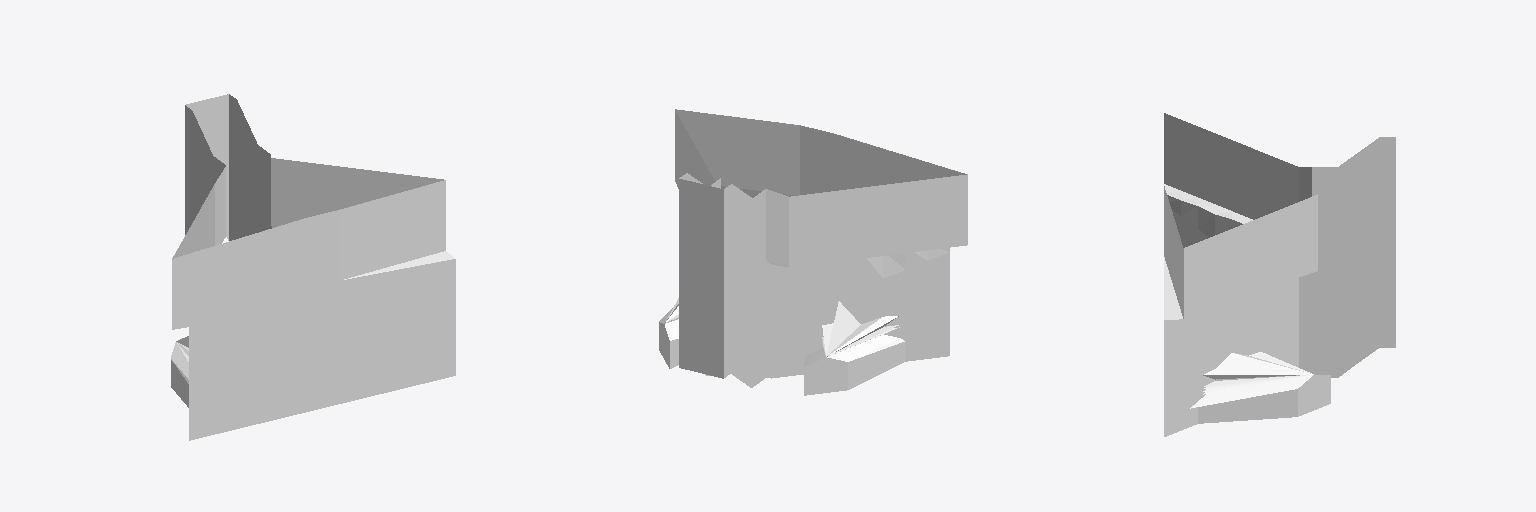
The model's file is Room.obj.
3 views of the same model, side by side, from view 1: azimuth 30°, elevation 25°; view 2: azimuth 150°, elevation 25°; view 3: azimuth 270°, elevation 25° (orthographic).
Visible parts, largest first — view 1: Room; view 2: Room; view 3: Room.
Part boxes in pixels (x1,y1,x2,y2): Room: (171,94,455,440); Room: (659,109,967,395); Room: (1164,113,1395,436).
Bounding box in the file's own units: 254 × 192 × 179.